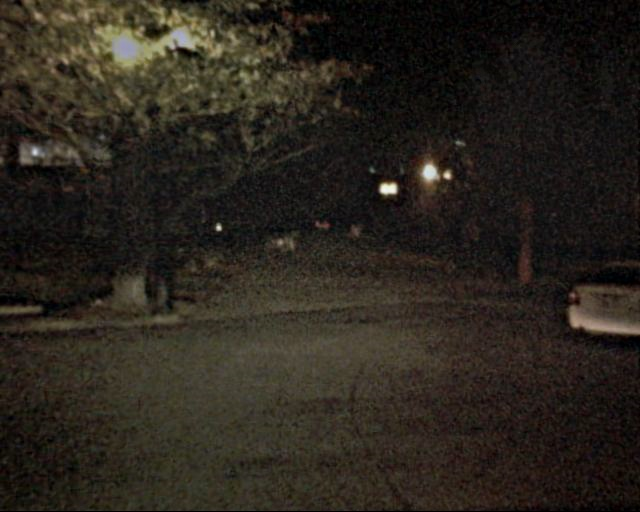person: (344, 225, 363, 271)
